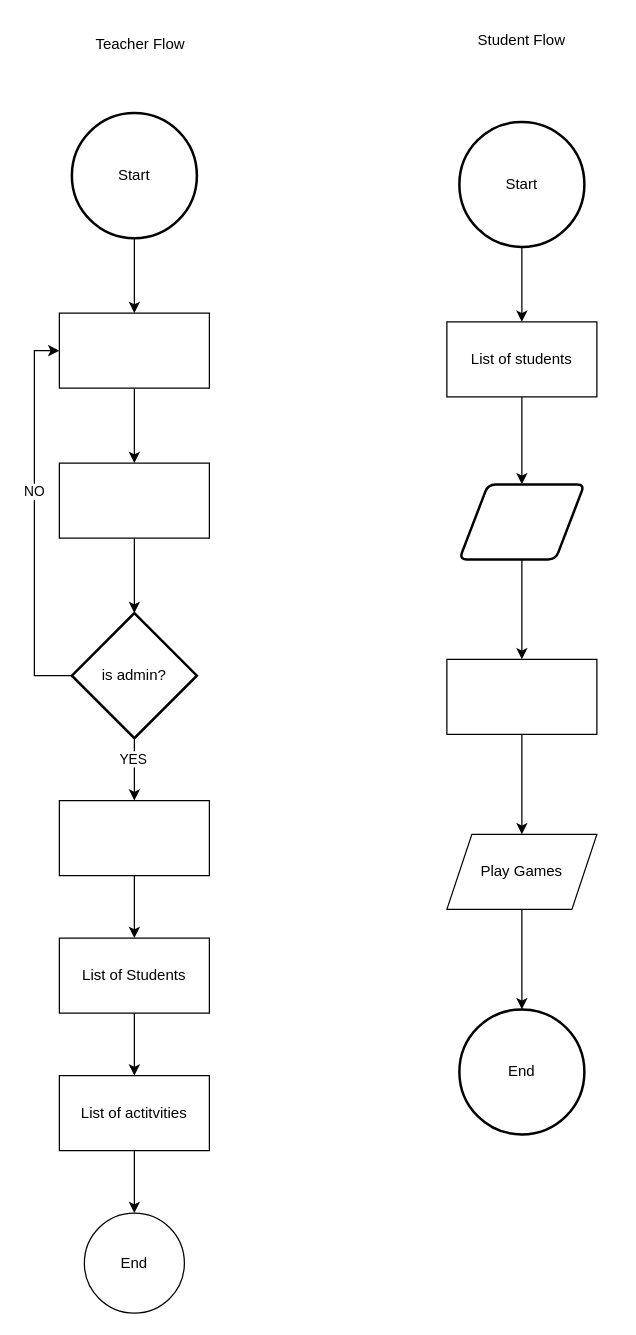
This 636x1335 diagram has some shape labels left out. Each missing label, with the box of its shape:
Add Profile: (458, 482, 585, 560)
Dashboard: (58, 799, 209, 876)
List of games: (446, 658, 597, 734)
login: (58, 462, 209, 538)
Register: (58, 312, 209, 388)
